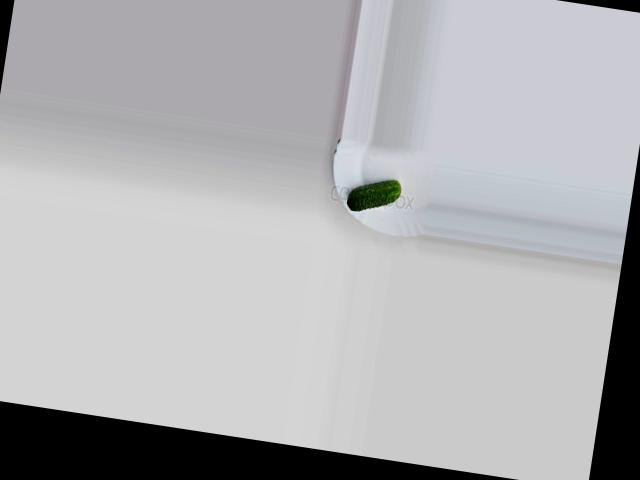cucumber: (346, 173, 402, 217)
